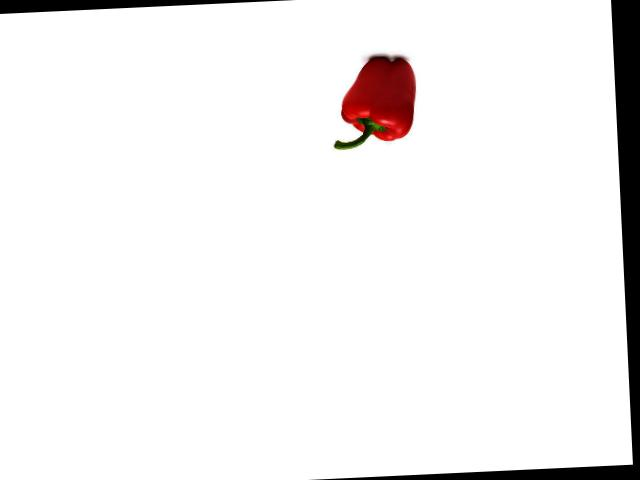bell_pepper: (327, 48, 422, 155)
